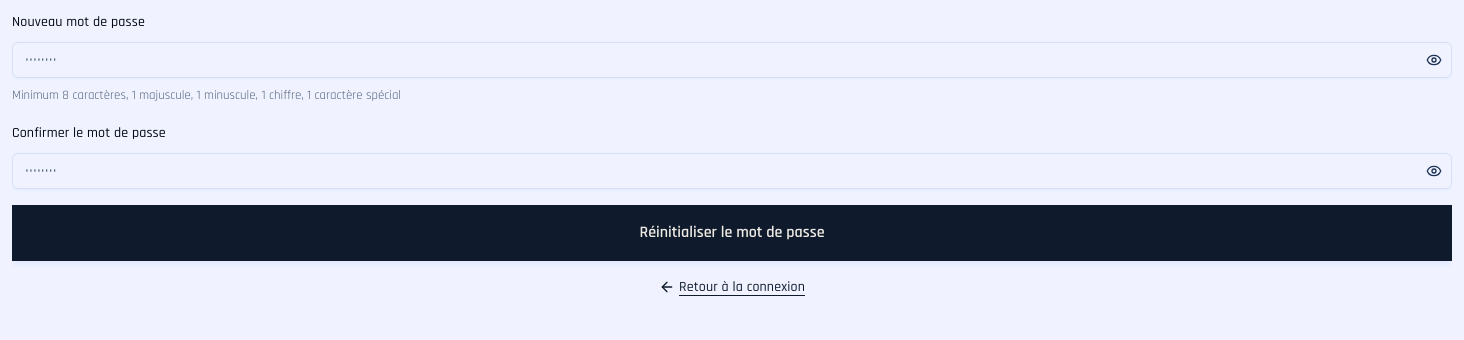
Test case: ResetPasswordForm › Validation › shows error when passwords do not match
Type "Password123!" into the password field with placeholder "••••••••" below "Nouveau mot de passe" at x=732, y=60, box [12,42,1452,78]
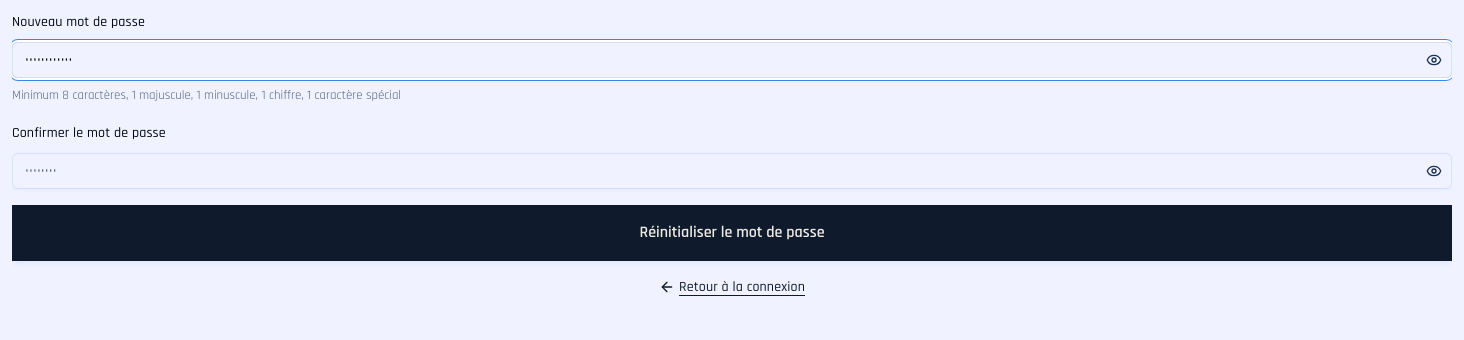
Type "DifferentPassword123!" into the password field with placeholder "••••••••" at x=732, y=171, box [12,153,1452,189]
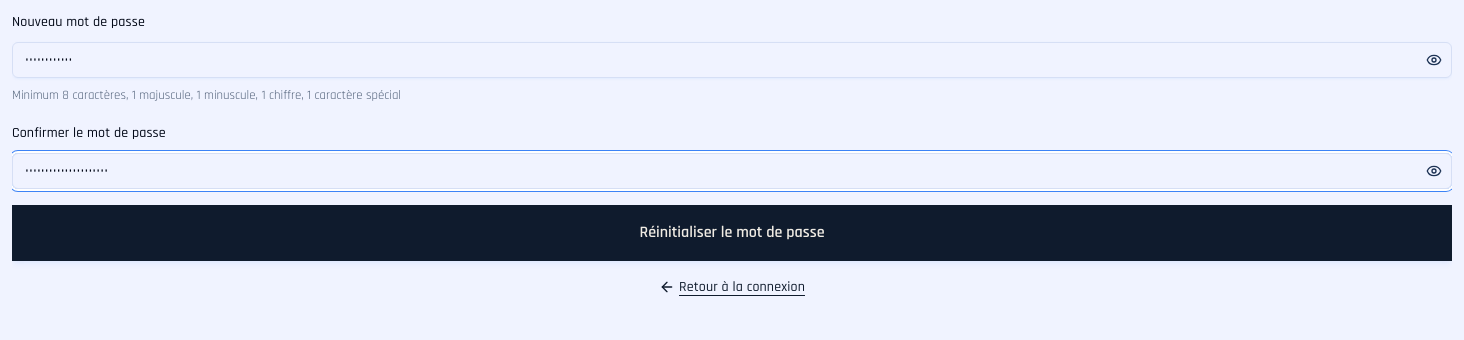
Click the button "Réinitialiser le mot de passe" at x=732, y=233, box [12,205,1452,261]
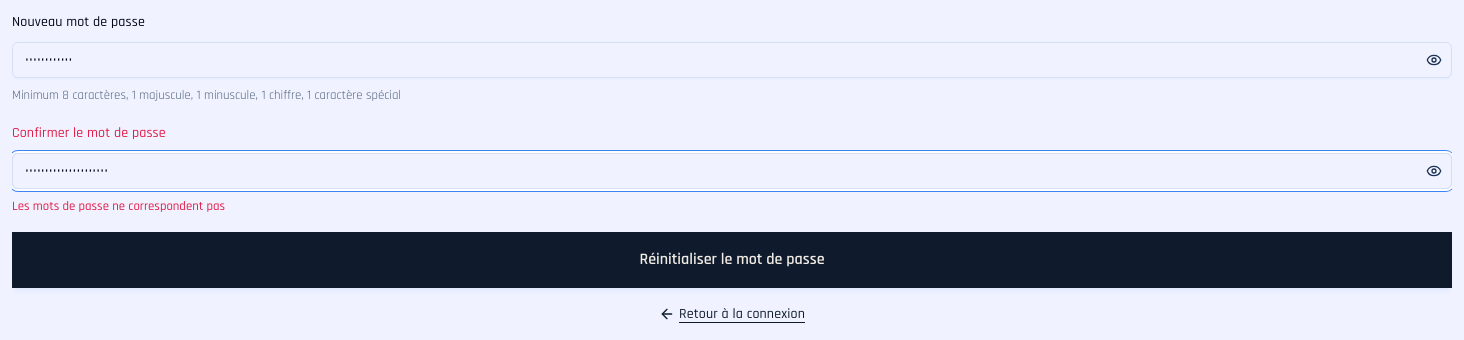
Check: the text "Les mots de passe ne correspondent pas" is shown, box [12,198,225,214]
